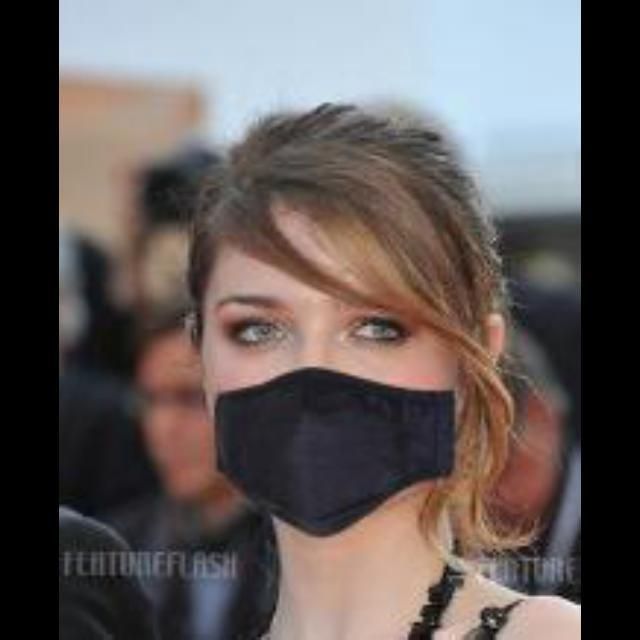suspicion: (190, 94, 516, 540)
